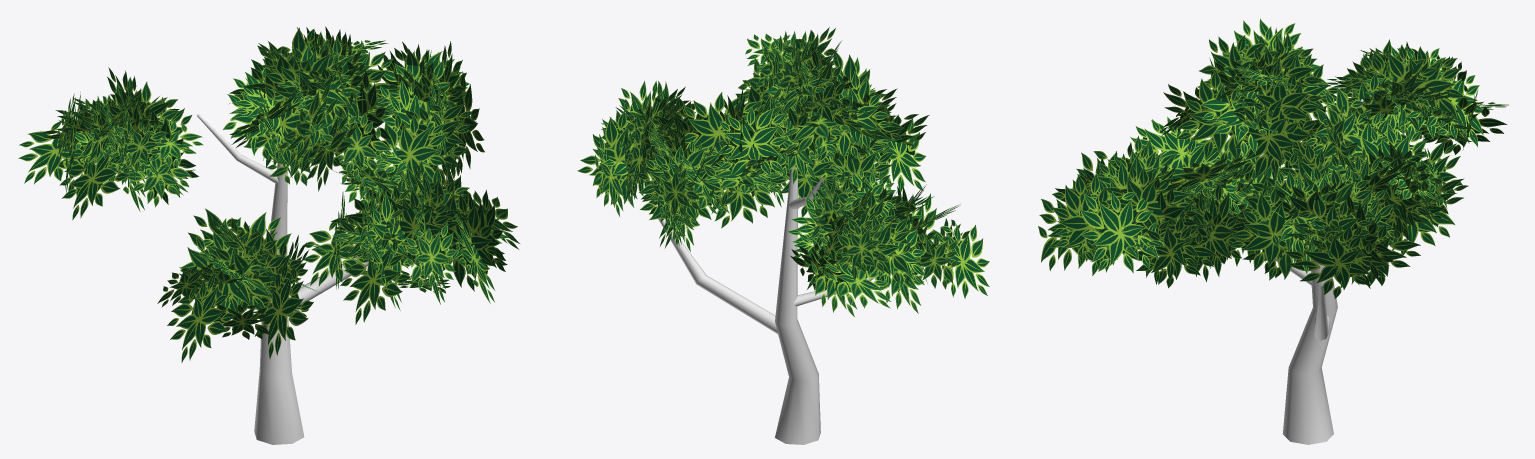
Rendered from Tree2_LOD1.fbx.
3 views of the same model, side by side, from view 1: azimuth 30°, elevation 25°; view 2: azimuth 150°, elevation 25°; view 3: azimuth 270°, elevation 25° (orthographic). The views are drawn at different scales.
Visible parts, largest first — view 1: Tree2_LOD1; view 2: Tree2_LOD1; view 3: Tree2_LOD1.
Boxes of the visible parts, x1,y1,x2,y2 form: Tree2_LOD1: [18, 26, 519, 444]; Tree2_LOD1: [577, 27, 989, 444]; Tree2_LOD1: [1038, 18, 1508, 444].
Size of the model in its own units: 985 by 1012 by 1070.
